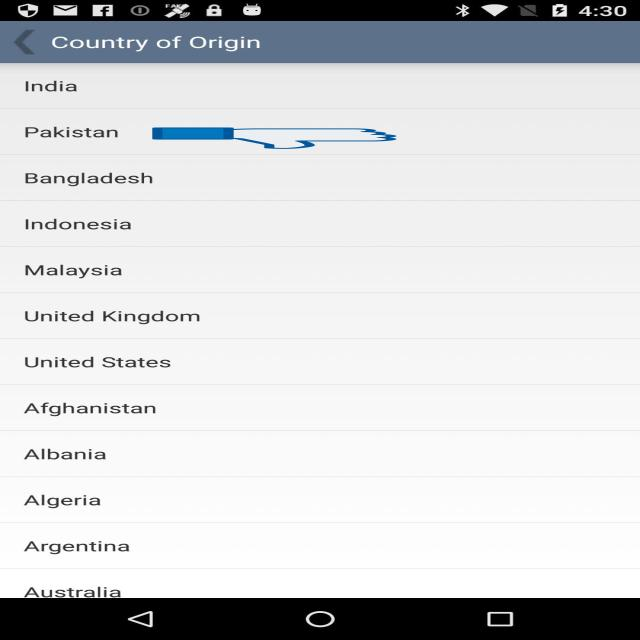obstruction: (152, 127, 396, 149)
